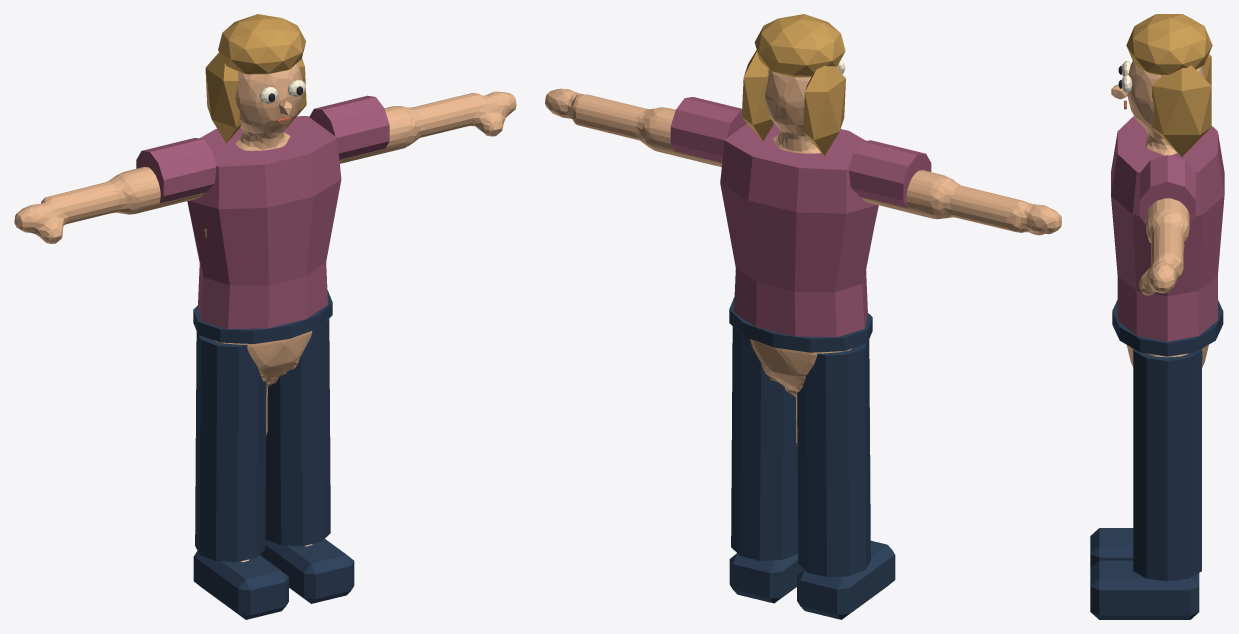
The model's file is Civilian_05.fbx.
The picture shows the model from 3 angles, left to right: view 1: azimuth 30°, elevation 25°; view 2: azimuth 150°, elevation 25°; view 3: azimuth 270°, elevation 25°; orthographic projection. The views are drawn at different scales.
Parts seen in each view (by area): view 1: Shirt.004, Civilian_05_Base_BaseMale_TPose_Body, PantsLeg.008, PantsLeg.009, Shoe.008, HairCap.004, Shoe.009, Sleeve.008, Sleeve.009, Belt.004, HairSide.002; view 2: Shirt.004, PantsLeg.008, Civilian_05_Base_BaseMale_TPose_Body, PantsLeg.009, HairCap.004, Shoe.008, Sleeve.008, Sleeve.009, HairSide.002, Shoe.009, Belt.004, HairSide.003; view 3: PantsLeg.009, Shirt.004, Civilian_05_Base_BaseMale_TPose_Body, Shoe.009, HairCap.004, HairSide.003, Sleeve.009, Belt.004, Shoe.008, HairSide.002.
Part boxes in pixels (x1=…): Shirt.004: x1=187, y1=116, x2=341, y2=329; Civilian_05_Base_BaseMale_TPose_Body: x1=14, y1=63, x2=516, y2=562; PantsLeg.008: x1=195, y1=332, x2=266, y2=561; PantsLeg.009: x1=265, y1=319, x2=330, y2=546; Shoe.008: x1=193, y1=551, x2=288, y2=619; HairCap.004: x1=218, y1=14, x2=305, y2=74; Shoe.009: x1=260, y1=539, x2=354, y2=603; Sleeve.008: x1=136, y1=138, x2=216, y2=203; Sleeve.009: x1=309, y1=95, x2=389, y2=160; Belt.004: x1=193, y1=290, x2=332, y2=343; HairSide.002: x1=205, y1=52, x2=241, y2=143; Shirt.004: x1=720, y1=123, x2=878, y2=337; PantsLeg.008: x1=797, y1=340, x2=870, y2=577; Civilian_05_Base_BaseMale_TPose_Body: x1=545, y1=64, x2=1061, y2=446; PantsLeg.009: x1=731, y1=326, x2=798, y2=560; HairCap.004: x1=754, y1=14, x2=845, y2=77; Shoe.008: x1=797, y1=540, x2=895, y2=619; Sleeve.008: x1=848, y1=140, x2=931, y2=207; Sleeve.009: x1=670, y1=97, x2=746, y2=162; HairSide.002: x1=803, y1=65, x2=845, y2=155; Shoe.009: x1=729, y1=553, x2=804, y2=603; Belt.004: x1=729, y1=297, x2=872, y2=352; HairSide.003: x1=742, y1=50, x2=774, y2=141; PantsLeg.009: x1=1133, y1=349, x2=1202, y2=581; Shirt.004: x1=1111, y1=116, x2=1224, y2=341; Civilian_05_Base_BaseMale_TPose_Body: x1=1126, y1=61, x2=1208, y2=367; Shoe.009: x1=1090, y1=560, x2=1199, y2=619; HairCap.004: x1=1126, y1=14, x2=1212, y2=75; HairSide.003: x1=1152, y1=65, x2=1211, y2=156; Sleeve.009: x1=1139, y1=155, x2=1195, y2=223; Belt.004: x1=1112, y1=300, x2=1223, y2=356; Shoe.008: x1=1090, y1=528, x2=1133, y2=568; HairSide.002: x1=1201, y1=54, x2=1211, y2=85.
Bounding box in the file's own units: 1.68 × 1.82 × 0.3817.
